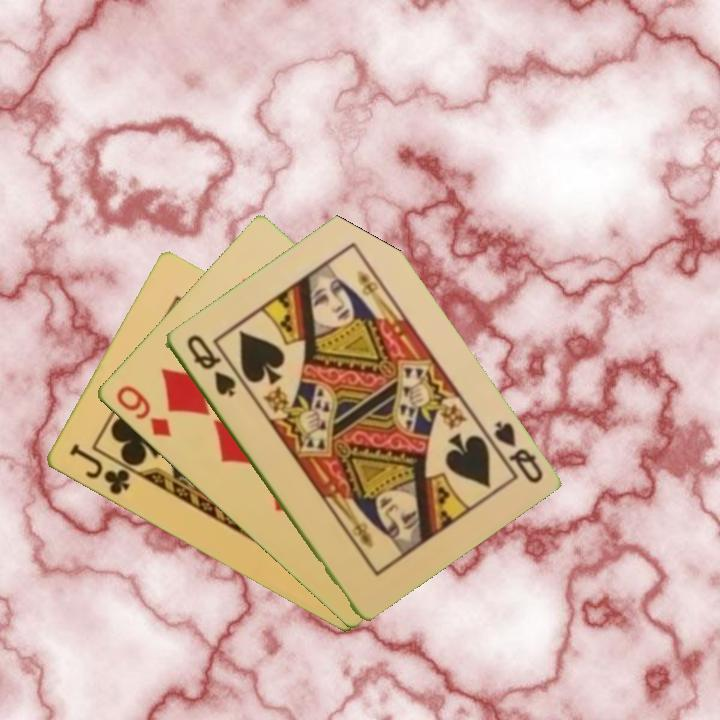9d: (112, 381, 174, 440)
Jc: (65, 440, 132, 498)
Qs: (480, 417, 546, 487), (182, 331, 238, 400)
